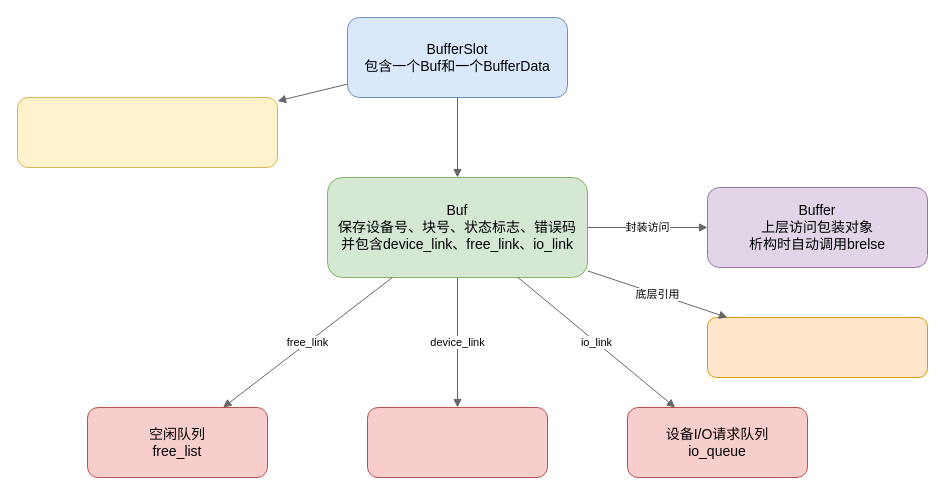
Image size: 945x495. Some labels were removed from this diagram. The centre of each missing label's shape, as x and y in pixels:
"BufferData 保存512字节块数据" belongs at (x=147, y=132).
"BufRef 底层缓冲区引用" belongs at (x=817, y=347).
"设备缓存队列 buffer_list" belongs at (x=457, y=442).
